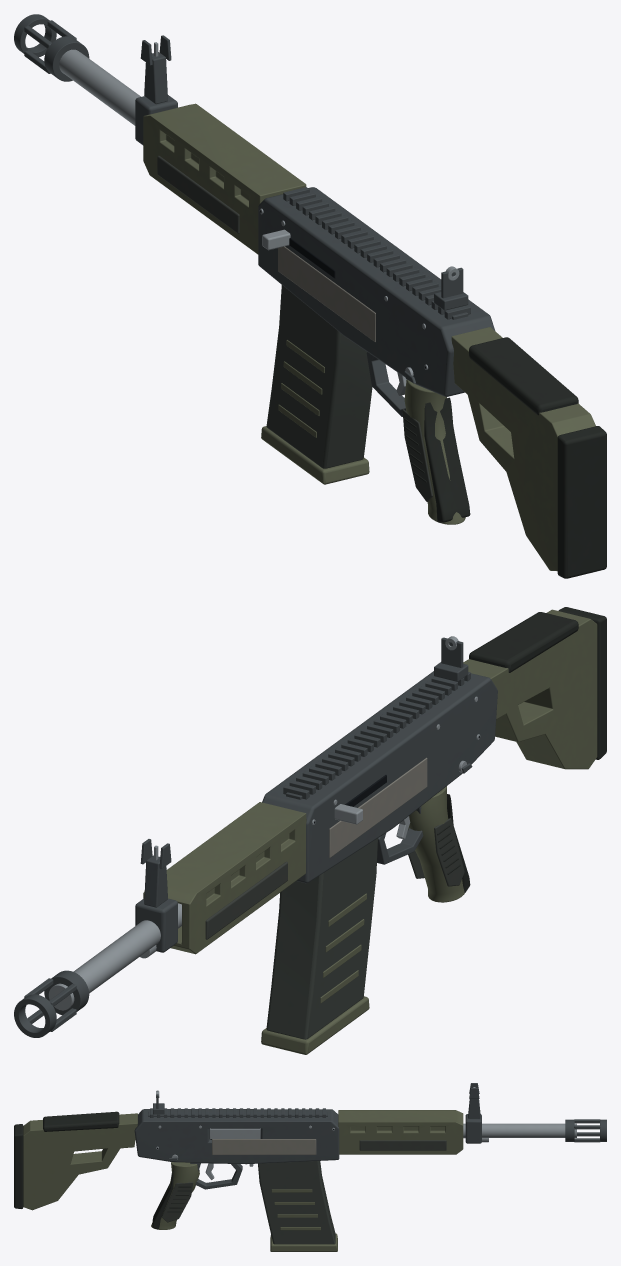
Rendered from havoc.glb.
3 views of the same model, one above another, from view 1: azimuth 30°, elevation 25°; view 2: azimuth 150°, elevation 25°; view 3: azimuth 270°, elevation 25° (orthographic). The views are drawn at different scales.
Visible parts, largest first — view 1: Havoc_Receiver, Havoc_Magazine, Havoc_Stock, Havoc_Static_Treated graphite, Havoc_Handguard, Havoc_Buttpad, Havoc_CheekRest, Havoc_Static_Dense rubber, Havoc_Static_Grip stipple, Havoc_Static_Warm grey coating, Havoc_Barrel, Havoc_Grip (+1 smaller); view 2: Havoc_Receiver, Havoc_Magazine, Havoc_Static_Treated graphite, Havoc_Stock, Havoc_Handguard, Havoc_CheekRest, Havoc_Static_Grip stipple, Havoc_Barrel, Havoc_Static_Warm grey coating, Havoc_Grip, Havoc_MagazineFloorplate, Havoc_Buttpad (+1 smaller); view 3: Havoc_Receiver, Havoc_Stock, Havoc_Magazine, Havoc_Handguard, Havoc_Static_Treated graphite, Havoc_Static_Grip stipple, Havoc_Static_Warm grey coating, Havoc_Barrel, Havoc_CheekRest, Havoc_Buttpad, Havoc_Grip, Havoc_MagazineFloorplate (+2 smaller).
Boxes of the visible parts, x1,y1,x2,y2 form: Havoc_Receiver: [258, 187, 495, 396]; Havoc_Magazine: [266, 285, 372, 468]; Havoc_Stock: [451, 327, 595, 571]; Havoc_Static_Treated graphite: [14, 14, 470, 416]; Havoc_Handguard: [143, 103, 306, 254]; Havoc_Buttpad: [557, 426, 606, 578]; Havoc_CheekRest: [469, 337, 578, 415]; Havoc_Static_Dense rubber: [403, 397, 470, 522]; Havoc_Static_Grip stipple: [157, 155, 457, 501]; Havoc_Static_Warm grey coating: [278, 246, 375, 342]; Havoc_Barrel: [59, 49, 140, 125]; Havoc_Grip: [404, 379, 465, 524]; Havoc_Receiver: [262, 671, 497, 883]; Havoc_Magazine: [266, 838, 377, 1039]; Havoc_Static_Treated graphite: [14, 637, 472, 1037]; Havoc_Stock: [463, 609, 597, 769]; Havoc_Handguard: [143, 802, 306, 954]; Havoc_CheekRest: [469, 612, 578, 672]; Havoc_Static_Grip stipple: [205, 818, 464, 939]; Havoc_Barrel: [48, 903, 181, 1010]; Havoc_Static_Warm grey coating: [329, 757, 427, 857]; Havoc_Grip: [408, 786, 464, 902]; Havoc_MagazineFloorplate: [261, 996, 369, 1054]; Havoc_Buttpad: [558, 607, 606, 759]; Havoc_Receiver: [134, 1109, 339, 1164]; Havoc_Stock: [23, 1113, 137, 1210]; Havoc_Magazine: [258, 1161, 335, 1244]; Havoc_Handguard: [338, 1110, 463, 1154]; Havoc_Static_Treated graphite: [148, 1083, 606, 1189]; Havoc_Static_Grip stipple: [162, 1140, 446, 1222]; Havoc_Static_Warm grey coating: [212, 1139, 316, 1154]; Havoc_Barrel: [463, 1123, 576, 1138]; Havoc_CheekRest: [43, 1111, 119, 1131]; Havoc_Buttpad: [14, 1124, 23, 1208]; Havoc_Grip: [151, 1162, 199, 1229]; Havoc_MagazineFloorplate: [270, 1233, 337, 1251].
Bounding box in the file's own units: 0.0825 × 0.306 × 1.02.
8 materials, 8 textured.
